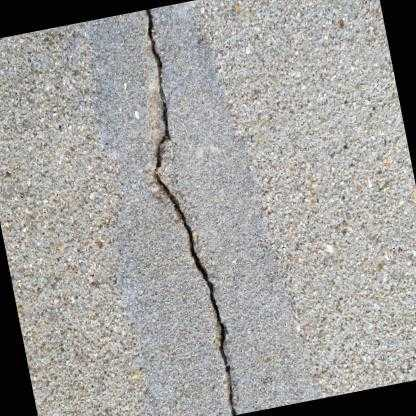crack: (145, 8, 235, 415)
